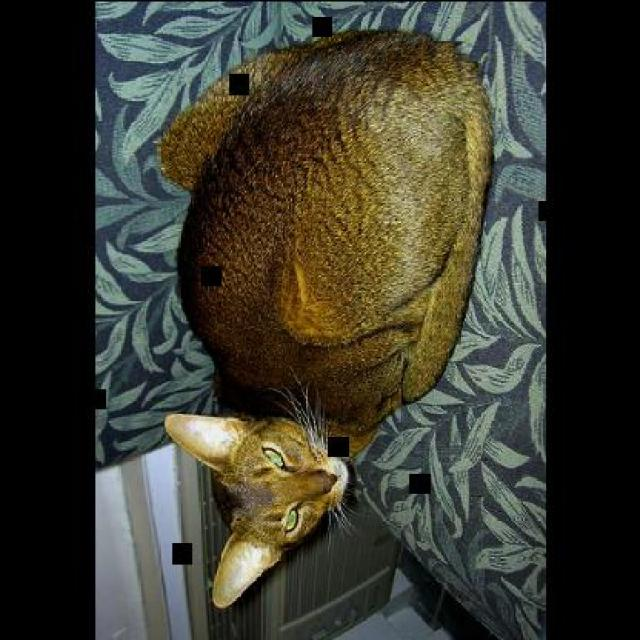unauthorized: (155, 26, 494, 457), (162, 378, 358, 611)
